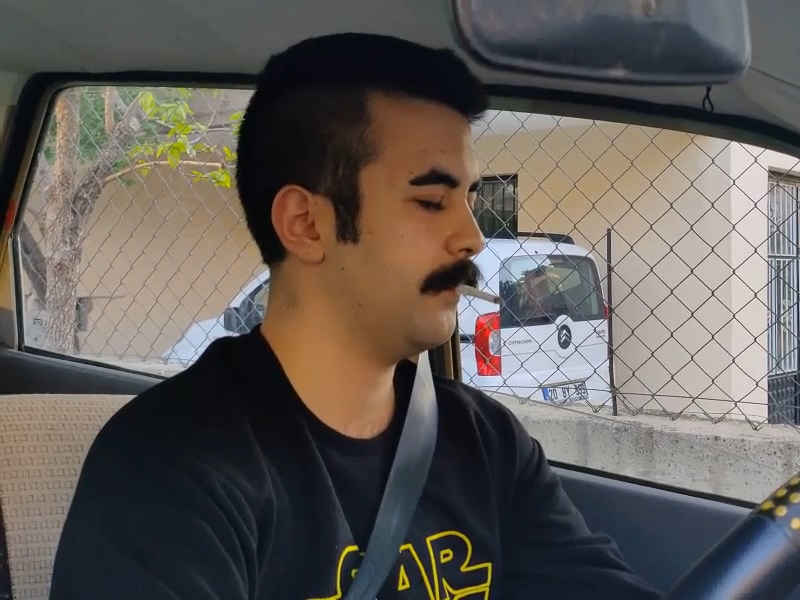sigara: (443, 275, 509, 311)
